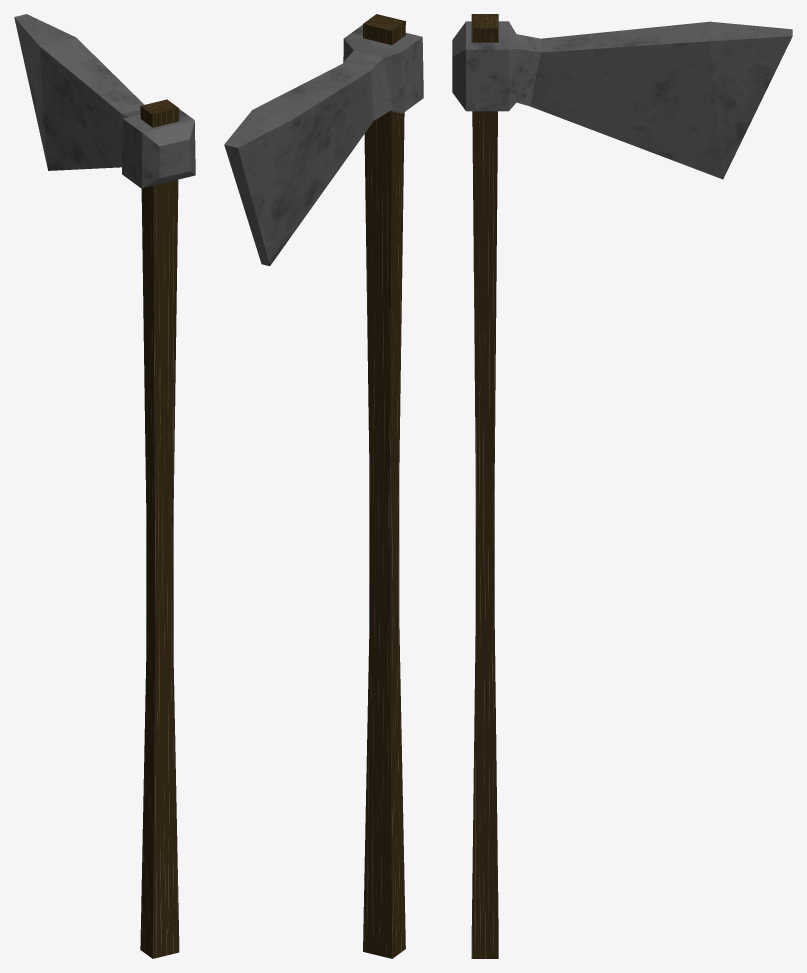
Rendered from Machado_De_Guerra.fbx.
3 views of the same model, side by side, from view 1: azimuth 30°, elevation 25°; view 2: azimuth 150°, elevation 25°; view 3: azimuth 270°, elevation 25° (orthographic). The views are drawn at different scales.
Visible parts, largest first — view 1: Machado de Guerra; view 2: Machado de Guerra; view 3: Machado de Guerra.
Part boxes in pixels (x1,y1,x2,y2): Machado de Guerra: [14, 14, 195, 958]; Machado de Guerra: [224, 14, 423, 958]; Machado de Guerra: [452, 14, 792, 958].
Bounding box in the file's own units: 10.87 × 161 × 53.56.
Materials: 2 (2 with a texture image).
